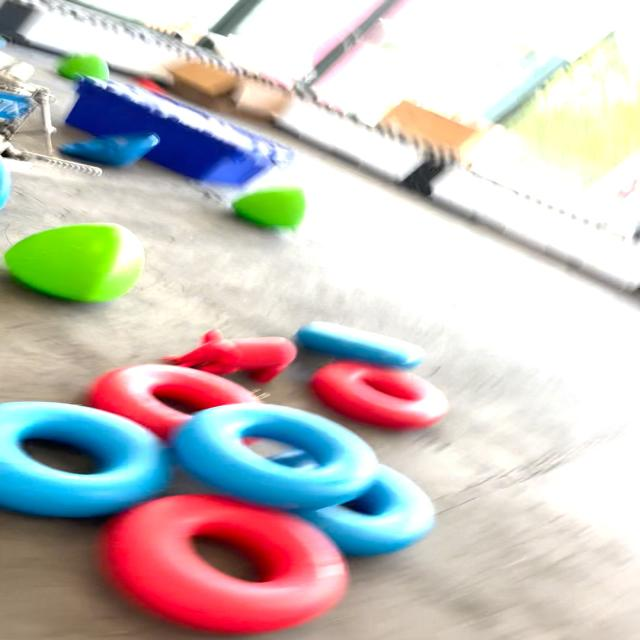Blue-Ring: (173, 402, 378, 510), (0, 401, 169, 518), (298, 465, 433, 555)
Red-Ring: (100, 495, 349, 634), (89, 364, 260, 439), (311, 361, 449, 429)
